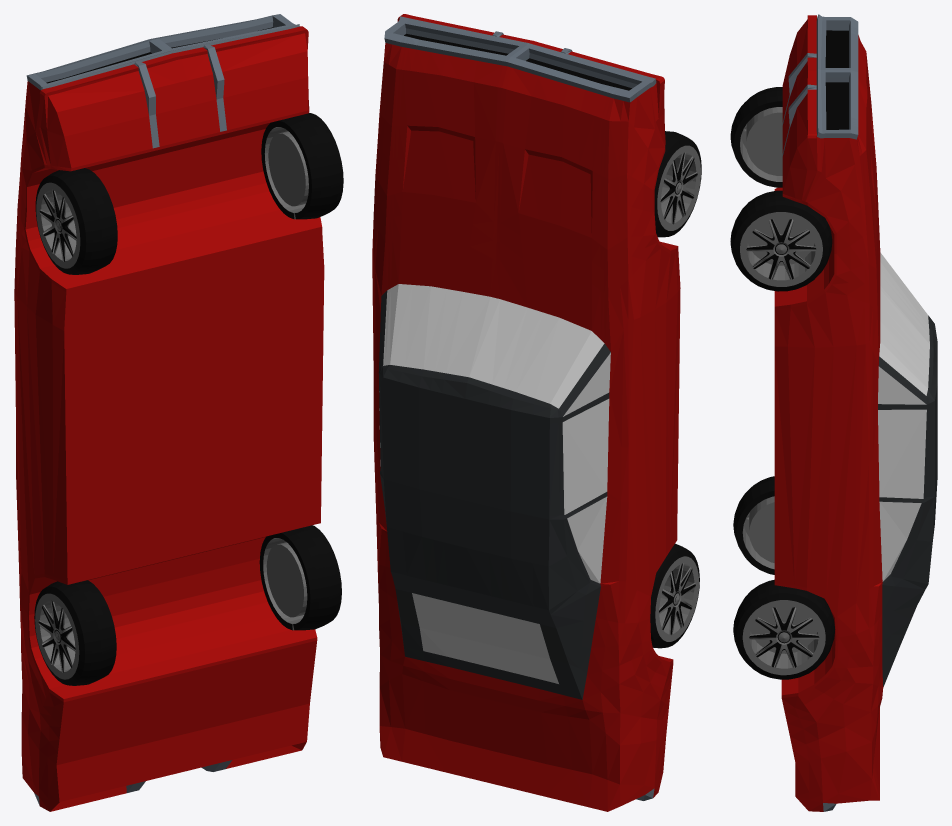
Rendered from dodge.dae.
3 renders of one model, left to right at view 1: azimuth 30°, elevation 25°; view 2: azimuth 150°, elevation 25°; view 3: azimuth 270°, elevation 25°, orthographic. The views are drawn at different scales.
Visible parts, largest first — view 1: Plane_Plane_002, Circle_002, Circle_001, Circle_003, Circle_004; view 2: Plane_Plane_002, Circle_001, Circle_002; view 3: Plane_Plane_002, Circle_003, Circle_004, Circle_002, Circle_001.
Part boxes in pixels (bbox=[...]): Plane_Plane_002: bbox=[14, 14, 324, 811]; Circle_002: bbox=[35, 168, 117, 274]; Circle_001: bbox=[34, 580, 116, 685]; Circle_003: bbox=[261, 112, 343, 219]; Circle_004: bbox=[259, 525, 341, 630]; Plane_Plane_002: bbox=[372, 14, 680, 811]; Circle_001: bbox=[650, 543, 699, 648]; Circle_002: bbox=[654, 131, 701, 237]; Plane_Plane_002: bbox=[774, 14, 937, 811]; Circle_003: bbox=[730, 190, 832, 291]; Circle_004: bbox=[733, 579, 835, 679]; Circle_002: bbox=[730, 87, 782, 187]; Circle_001: bbox=[733, 476, 774, 574].
Size of the model in its own units: 0.0256 by 0.0177 by 0.0648.
